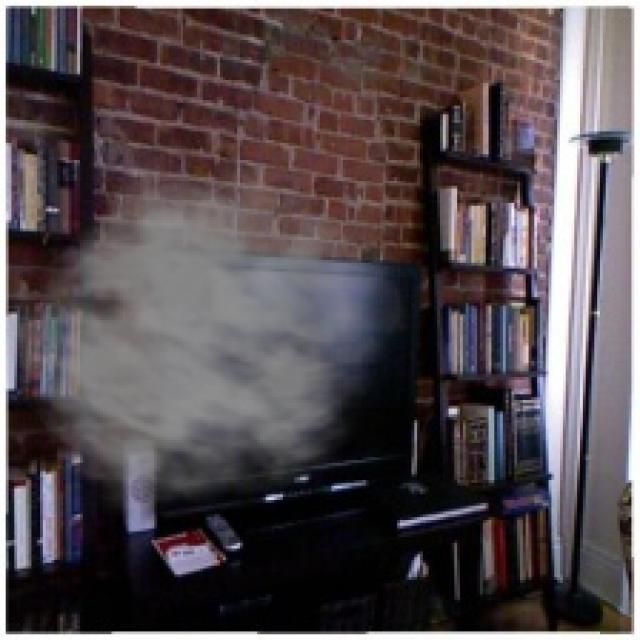Smoke: (9, 148, 412, 514)
